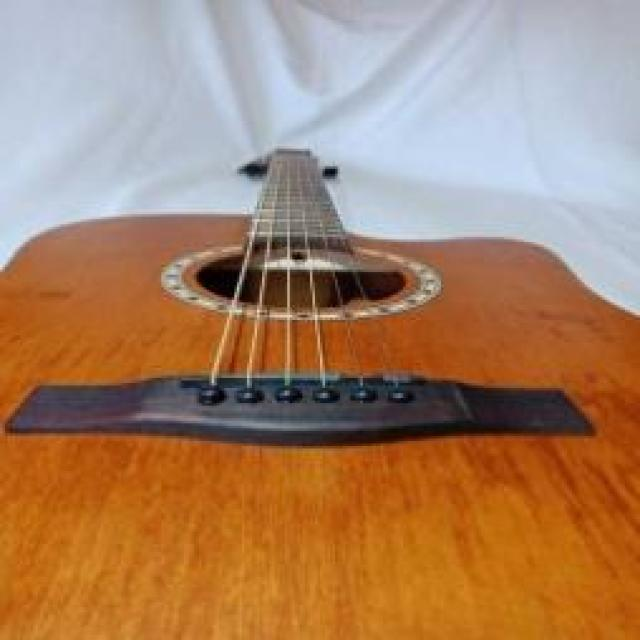acousticguitar: (0, 146, 637, 637)
